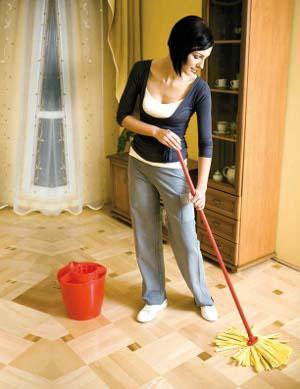person: (115, 14, 219, 324)
